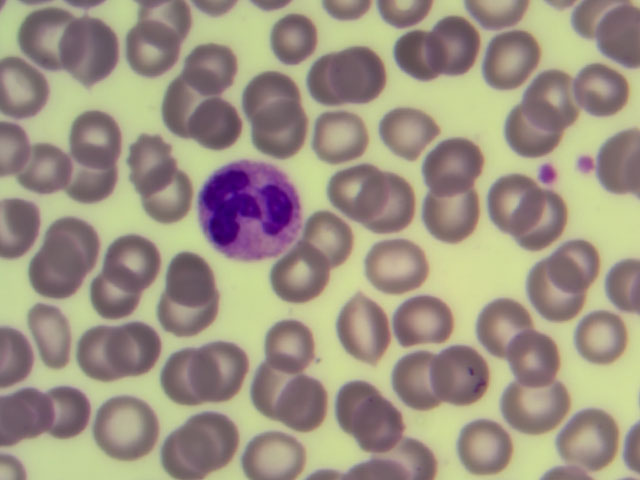Platelets: (535, 162, 562, 182), (573, 152, 594, 174)
RBC: (240, 418, 303, 480), (158, 418, 221, 480), (18, 7, 81, 68), (55, 22, 118, 83), (2, 58, 65, 119), (73, 101, 136, 162), (64, 144, 127, 205), (26, 138, 89, 199), (44, 208, 107, 269), (31, 247, 94, 308), (28, 306, 91, 367), (42, 377, 105, 438), (6, 383, 69, 444), (95, 393, 158, 454), (67, 321, 130, 382), (104, 315, 167, 376), (153, 277, 216, 338), (160, 242, 223, 303), (83, 263, 146, 324), (107, 229, 170, 290), (142, 169, 205, 230), (120, 132, 183, 193), (184, 91, 247, 152), (156, 72, 219, 133), (183, 33, 246, 94), (120, 22, 183, 83), (154, 2, 217, 63), (245, 61, 308, 122), (266, 9, 329, 70), (326, 41, 389, 102), (292, 58, 355, 119), (314, 108, 377, 169), (323, 151, 386, 212), (356, 173, 419, 234), (300, 208, 363, 269), (276, 256, 339, 317), (330, 292, 393, 353), (367, 225, 430, 286), (393, 280, 456, 341), (398, 345, 461, 406), (434, 351, 497, 412), (471, 293, 534, 354), (496, 324, 559, 385), (505, 368, 568, 429), (558, 403, 621, 464), (564, 306, 627, 367), (527, 260, 590, 321), (544, 233, 607, 294), (516, 185, 579, 246), (477, 179, 540, 240), (424, 187, 487, 248), (419, 126, 482, 187), (382, 97, 445, 158), (390, 28, 453, 89), (434, 15, 497, 76), (481, 28, 544, 89), (518, 48, 581, 109), (506, 105, 569, 166), (557, 68, 620, 129), (577, 2, 640, 63), (196, 342, 259, 403), (149, 353, 212, 414), (263, 307, 326, 368), (242, 352, 305, 413), (274, 368, 337, 429), (323, 371, 386, 432), (344, 393, 407, 454), (185, 406, 248, 467)
WBC: (206, 162, 298, 260)
